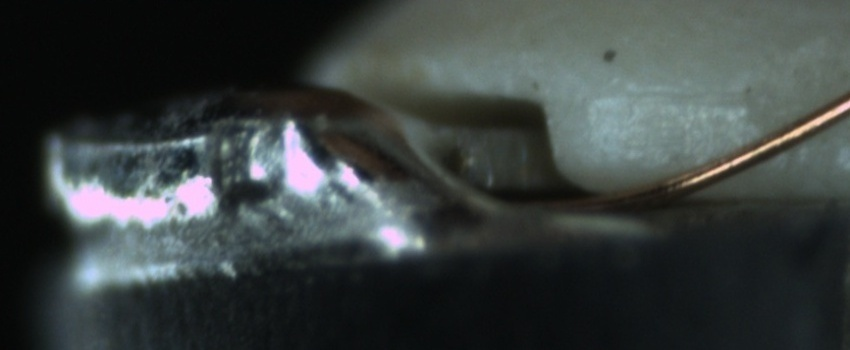DL: (598, 65, 756, 130)
